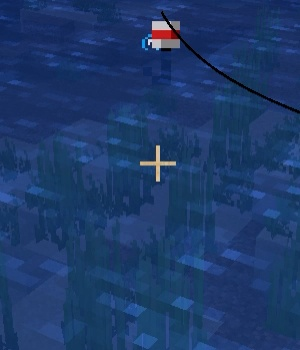up: (140, 13, 189, 86)
